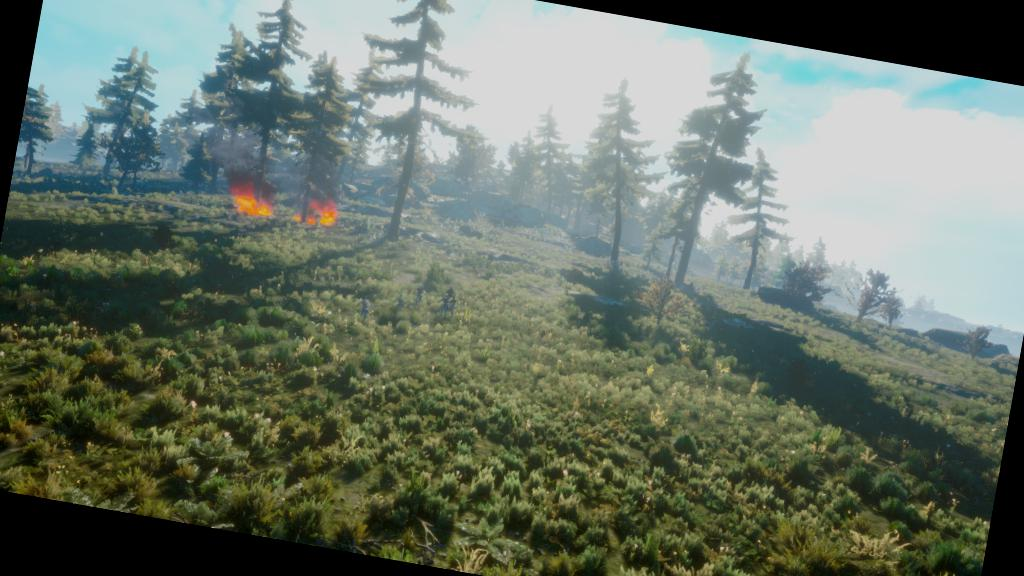Fire: (286, 188, 348, 236), (220, 180, 280, 220)
human: (432, 280, 475, 328), (398, 274, 434, 319), (351, 282, 382, 329)
smoke: (204, 134, 281, 186), (286, 152, 356, 196)
